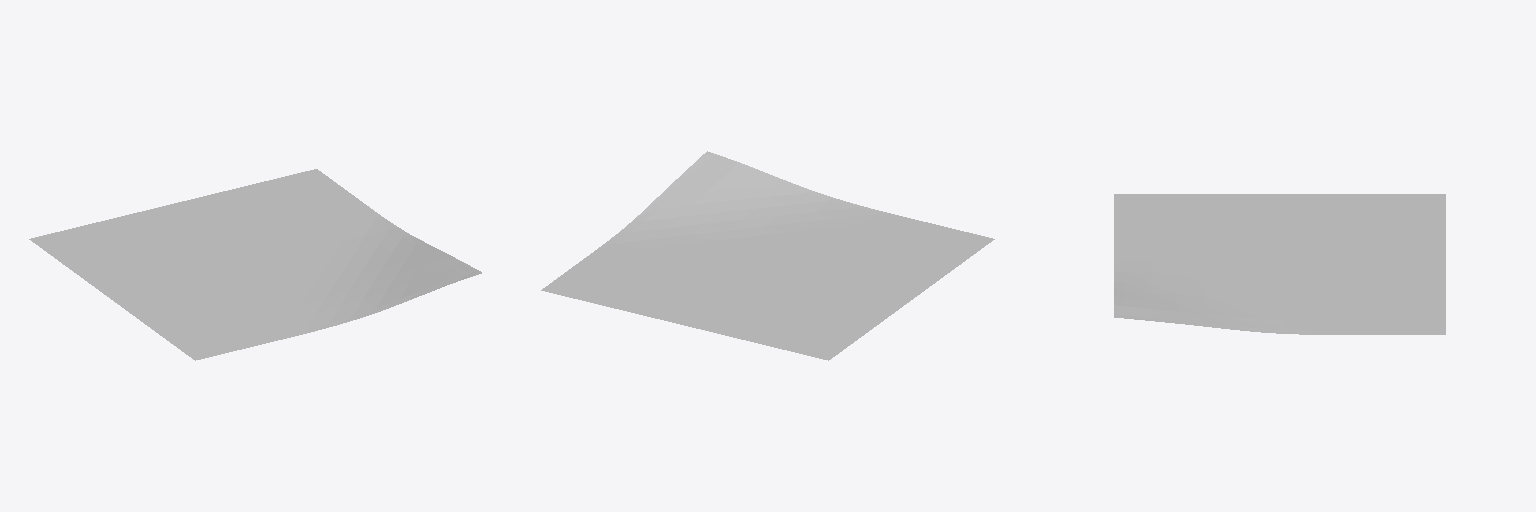
File: Landscape.009.obj
3 views of the same model, side by side, from view 1: azimuth 30°, elevation 25°; view 2: azimuth 150°, elevation 25°; view 3: azimuth 270°, elevation 25° (orthographic).
Parts seen in each view (by area): view 1: Landscape.009; view 2: Landscape.009; view 3: Landscape.009.
Boxes of the visible parts, <box> form: Landscape.009: <box>29,169,481,360</box>; Landscape.009: <box>541,151,994,360</box>; Landscape.009: <box>1114,194,1445,334</box>.
Size of the model in its own units: 32 by 1.86 by 32.